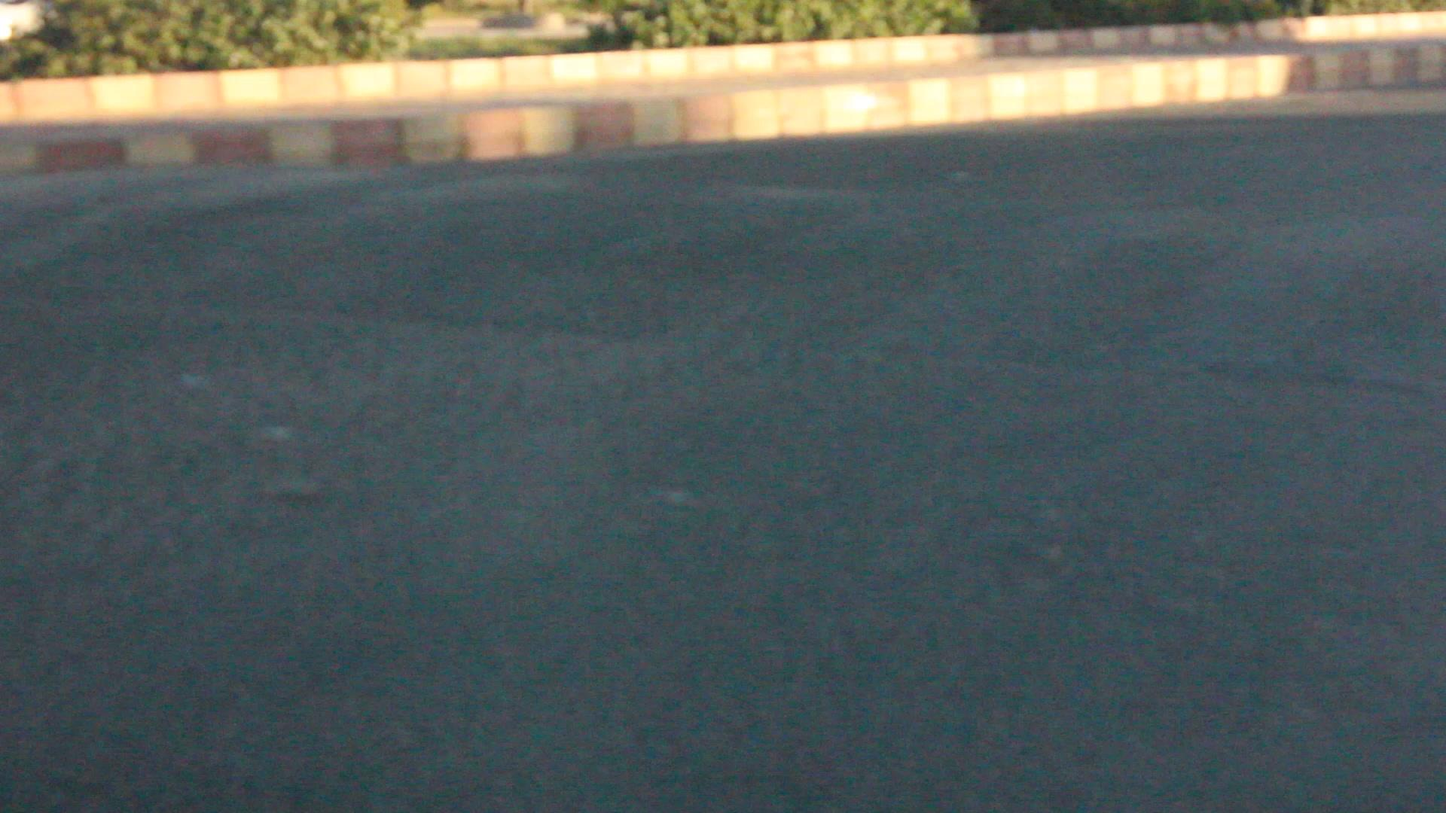Bump: (11, 158, 1445, 390)
